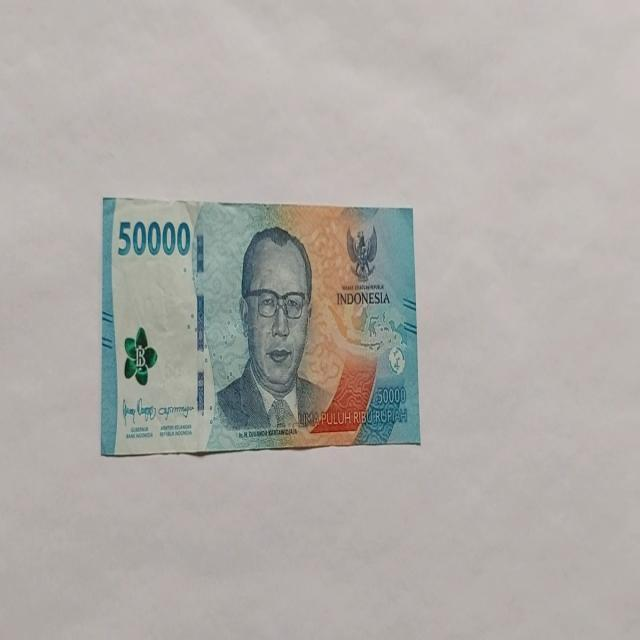lima puluh ribu rupiah: (100, 195, 420, 457), (212, 224, 332, 436)
